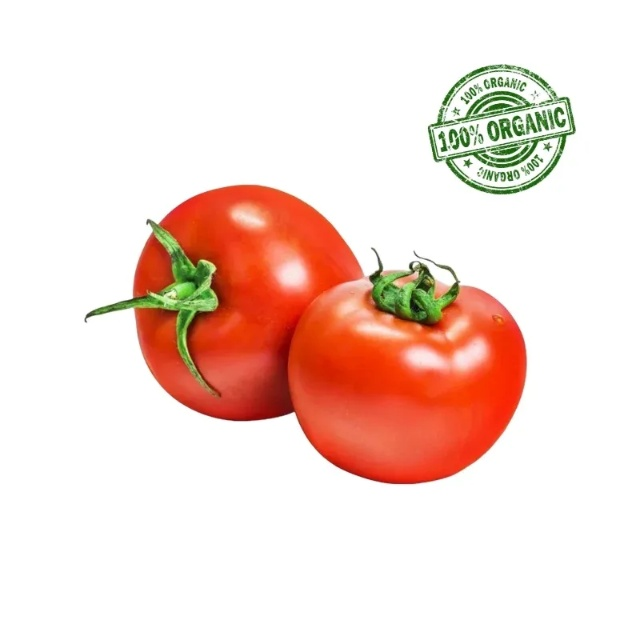ca_chua: (132, 183, 365, 421), (286, 274, 528, 483)
